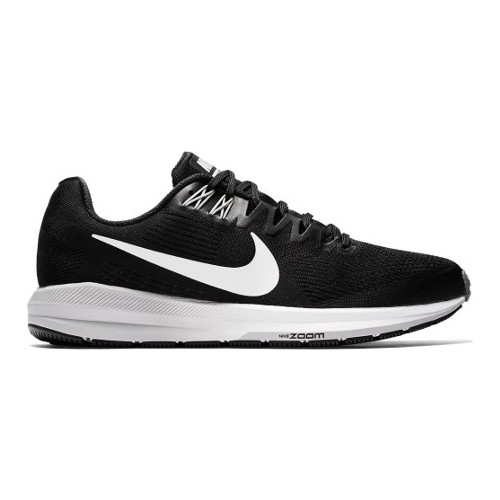nike: (91, 231, 283, 301)
